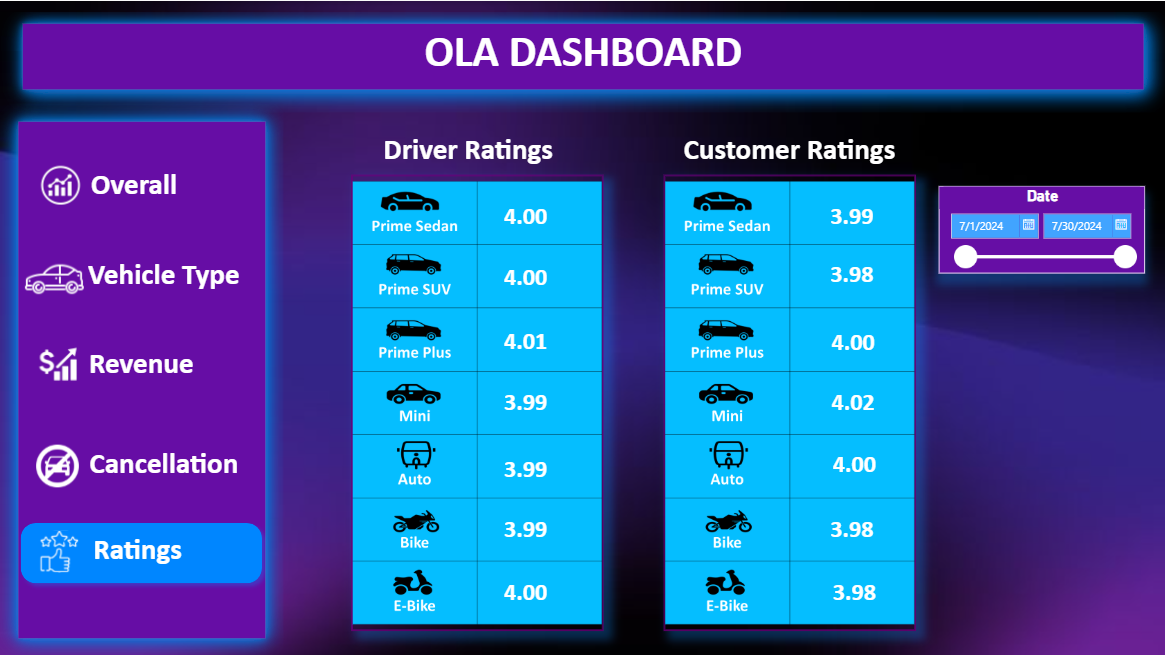

What the dashboard file says about the page in this screenshot:
{"tool":"powerbi","page":{"name":"Ratings","canvas":[1280,720],"ordinal":4},"visuals":[{"type":"shape","box":[0,0,1280.6,122.2],"z":0},{"type":"textbox","box":[0,20.8,1280.6,80.6],"z":1000},{"type":"shape","box":[0,112.9,311.4,607.1],"z":2000},{"type":"textbox","box":[48.6,372.9,214.3,62.9],"z":3000},{"type":"textbox","box":[72.9,275.7,214.3,84.3],"z":4000},{"type":"shape","box":[14.3,564.3,282.9,84.3],"z":5000},{"type":"textbox","box":[13.9,176.4,266.7,76.4],"z":6000},{"type":"textbox","box":[72.9,482.9,214.3,81.4],"z":7000},{"type":"actionButton","box":[57.1,372.9,197.1,64.3],"z":8000},{"type":"actionButton","box":[43.9,275.8,242.9,65.9],"z":9000},{"type":"actionButton","box":[48.6,176.4,197.2,65.3],"z":10000},{"type":"actionButton","box":[27.4,164.7,82.3,78.2],"z":11000},{"type":"textbox","box":[44.3,577.1,214.3,80],"z":12000},{"type":"actionButton","box":[60,482.9,221.4,64.3],"z":13000},{"type":"actionButton","box":[27.4,359.5,74.1,78.2],"z":14000},{"type":"actionButton","box":[23.3,269,74.1,72.7],"z":15000},{"type":"actionButton","box":[35.7,483,59,54.9],"z":16000},{"type":"actionButton","box":[38.4,577.7,67.2,53.5],"z":17000},{"type":"image","box":[385.6,190.7,277.2,500.9],"z":18000},{"type":"image","box":[728.6,190.7,277.2,500.9],"z":19000},{"type":"cardVisual","fields":{"Data":["Avg(ola bookings.Driver_Ratings)"]},"box":[524.2,204.5,122.1,60.4],"z":20000},{"type":"cardVisual","fields":{"Data":["Avg(ola bookings.Driver_Ratings)"]},"box":[524.2,548.9,122.1,60.4],"z":21000},{"type":"cardVisual","fields":{"Data":["Avg(ola bookings.Driver_Ratings)"]},"box":[524.2,617.5,122.1,60.4],"z":22000},{"type":"cardVisual","fields":{"Data":["Avg(ola bookings.Driver_Ratings)"]},"box":[524.2,271.7,122.1,60.4],"z":23000},{"type":"cardVisual","fields":{"Data":["Avg(ola bookings.Driver_Ratings)"]},"box":[524.2,341.7,122.1,60.4],"z":24000},{"type":"cardVisual","fields":{"Data":["Avg(ola bookings.Driver_Ratings)"]},"box":[524.2,408.9,122.1,60.4],"z":25000},{"type":"cardVisual","fields":{"Data":["Avg(ola bookings.Driver_Ratings)"]},"box":[524.2,483,122.1,60.4],"z":26000},{"type":"cardVisual","fields":{"Data":["Avg(ola bookings.Customer_Rating)"]},"box":[882.3,204.5,122.1,60.4],"z":27000},{"type":"cardVisual","fields":{"Data":["Avg(ola bookings.Customer_Rating)"]},"box":[882.3,269,122.1,60.4],"z":28000},{"type":"cardVisual","fields":{"Data":["Avg(ola bookings.Customer_Rating)"]},"box":[883.7,343.1,122.1,60.4],"z":29000},{"type":"cardVisual","fields":{"Data":["Avg(ola bookings.Customer_Rating)"]},"box":[883.7,408.9,122.1,60.4],"z":30000},{"type":"cardVisual","fields":{"Data":["Avg(ola bookings.Customer_Rating)"]},"box":[885.1,477.5,122.1,60.4],"z":31000},{"type":"cardVisual","fields":{"Data":["Avg(ola bookings.Customer_Rating)"]},"box":[882.3,548.9,122.1,60.4],"z":32000},{"type":"cardVisual","fields":{"Data":["Avg(ola bookings.Customer_Rating)"]},"box":[885.1,617.5,122.1,60.4],"z":33000},{"type":"textbox","box":[414.4,138.6,199,65.9],"z":34000},{"type":"textbox","box":[694.3,138.6,344.4,76.8],"z":35000},{"type":"slicer","title":"Date","fields":{"Values":["ola bookings.Date"]},"box":[1030.5,203.1,226.4,96.1],"z":36000}]}

Visuals, with their boxes in screenshot pixels (x1, y1, x2, y2), scaled from the page's 1280x720 canvas onto the 1165x655 screenshot:
shape: [left=0, top=0, right=1164, bottom=111]
textbox: [left=0, top=19, right=1164, bottom=92]
shape: [left=0, top=103, right=283, bottom=654]
textbox: [left=44, top=339, right=239, bottom=396]
textbox: [left=66, top=251, right=261, bottom=328]
shape: [left=13, top=513, right=270, bottom=590]
textbox: [left=13, top=160, right=255, bottom=230]
textbox: [left=66, top=439, right=261, bottom=513]
actionButton: [left=52, top=339, right=231, bottom=398]
actionButton: [left=40, top=251, right=261, bottom=311]
actionButton: [left=44, top=160, right=224, bottom=220]
actionButton: [left=25, top=150, right=100, bottom=221]
textbox: [left=40, top=525, right=235, bottom=598]
actionButton: [left=55, top=439, right=256, bottom=498]
actionButton: [left=25, top=327, right=92, bottom=398]
actionButton: [left=21, top=245, right=89, bottom=311]
actionButton: [left=32, top=439, right=86, bottom=489]
actionButton: [left=35, top=526, right=96, bottom=574]
image: [left=351, top=173, right=603, bottom=629]
image: [left=663, top=173, right=915, bottom=629]
cardVisual - Avg(ola bookings.Driver_Ratings): [left=477, top=186, right=588, bottom=241]
cardVisual - Avg(ola bookings.Driver_Ratings): [left=477, top=499, right=588, bottom=554]
cardVisual - Avg(ola bookings.Driver_Ratings): [left=477, top=562, right=588, bottom=617]
cardVisual - Avg(ola bookings.Driver_Ratings): [left=477, top=247, right=588, bottom=302]
cardVisual - Avg(ola bookings.Driver_Ratings): [left=477, top=311, right=588, bottom=366]
cardVisual - Avg(ola bookings.Driver_Ratings): [left=477, top=372, right=588, bottom=427]
cardVisual - Avg(ola bookings.Driver_Ratings): [left=477, top=439, right=588, bottom=494]
cardVisual - Avg(ola bookings.Customer_Rating): [left=803, top=186, right=914, bottom=241]
cardVisual - Avg(ola bookings.Customer_Rating): [left=803, top=245, right=914, bottom=300]
cardVisual - Avg(ola bookings.Customer_Rating): [left=804, top=312, right=915, bottom=367]
cardVisual - Avg(ola bookings.Customer_Rating): [left=804, top=372, right=915, bottom=427]
cardVisual - Avg(ola bookings.Customer_Rating): [left=806, top=434, right=917, bottom=489]
cardVisual - Avg(ola bookings.Customer_Rating): [left=803, top=499, right=914, bottom=554]
cardVisual - Avg(ola bookings.Customer_Rating): [left=806, top=562, right=917, bottom=617]
textbox: [left=377, top=126, right=558, bottom=186]
textbox: [left=632, top=126, right=945, bottom=196]
"Date" slicer: [left=938, top=185, right=1144, bottom=272]
